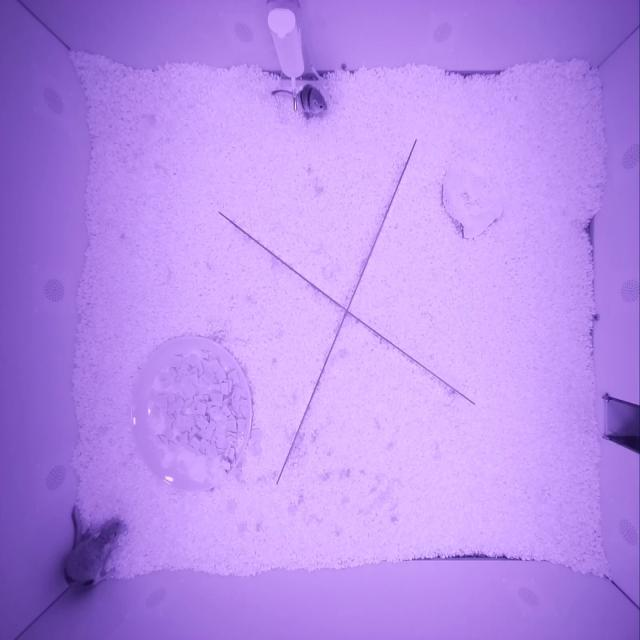adult_back: (64, 518, 121, 590), (296, 85, 327, 113)
